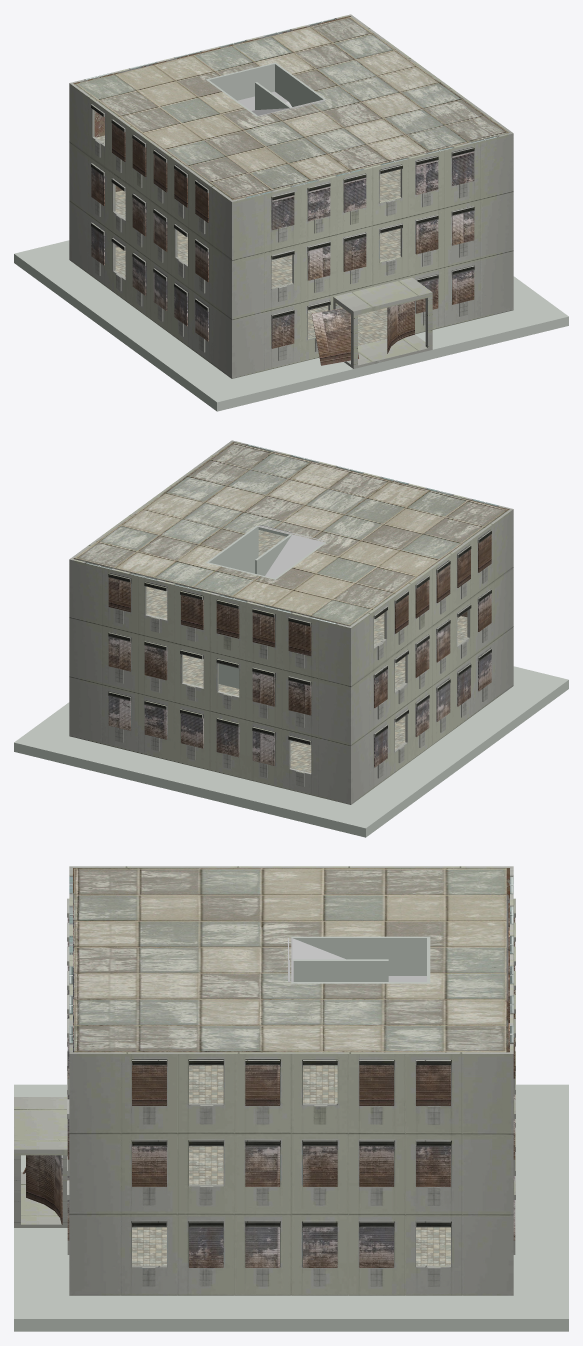
The model's file is BagSS03base_high.fbx.
The picture shows the model from 3 angles, top to bottom: view 1: azimuth 30°, elevation 25°; view 2: azimuth 150°, elevation 25°; view 3: azimuth 270°, elevation 25°; orthographic projection. The views are drawn at different scales.
Visible parts, largest first — view 1: baseMain0, baseFloorsa0, baseBase0, basewindows0, baseporch0, basestairwell0, basedoor0, baseInnerwall0, baseStairs0; view 2: baseMain0, baseFloorsa0, baseBase0, basewindows0, basestairwell0, baseStairs0; view 3: baseMain0, baseFloorsa0, baseBase0, basewindows0, basestairwell0, baseporch0, basedoor0, baseStairs0, baseInnerwall0.
Boxes of the visible parts, x1=… form: baseMain0: x1=69, y1=14, x2=513, y2=378; baseFloorsa0: x1=74, y1=17, x2=509, y2=345; baseBase0: x1=14, y1=240, x2=568, y2=411; basewindows0: x1=91, y1=123, x2=474, y2=348; baseporch0: x1=333, y1=277, x2=432, y2=368; basestairwell0: x1=206, y1=62, x2=325, y2=116; basedoor0: x1=311, y1=301, x2=414, y2=365; baseInnerwall0: x1=73, y1=16, x2=350, y2=247; baseStairs0: x1=237, y1=91, x2=325, y2=116; baseMain0: x1=69, y1=440, x2=513, y2=804; baseFloorsa0: x1=74, y1=442, x2=508, y2=772; baseBase0: x1=14, y1=666, x2=568, y2=837; basewindows0: x1=108, y1=534, x2=491, y2=767; basestairwell0: x1=206, y1=525, x2=325, y2=742; baseStairs0: x1=258, y1=525, x2=325, y2=578; baseMain0: x1=67, y1=866, x2=515, y2=1295; baseFloorsa0: x1=74, y1=868, x2=506, y2=1265; baseBase0: x1=14, y1=1084, x2=568, y2=1331; basewindows0: x1=67, y1=903, x2=515, y2=1267; basestairwell0: x1=291, y1=936, x2=430, y2=983; baseporch0: x1=14, y1=1097, x2=67, y2=1227; basedoor0: x1=22, y1=1155, x2=62, y2=1224; baseStairs0: x1=288, y1=938, x2=426, y2=981; baseInnerwall0: x1=73, y1=868, x2=509, y2=1052.
Size of the model in its own units: 25.6 by 12.97 by 25.6.
